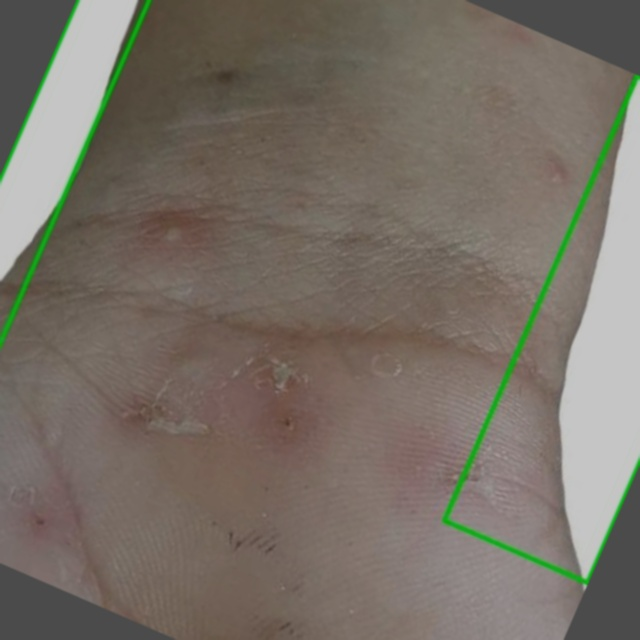Scabies: (443, 75, 639, 583)
